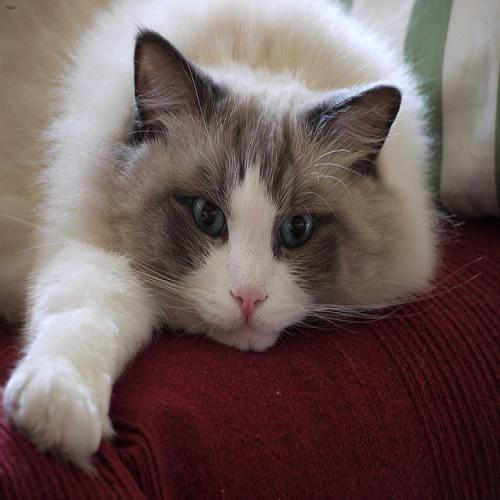ragdoll: (103, 18, 404, 398)
